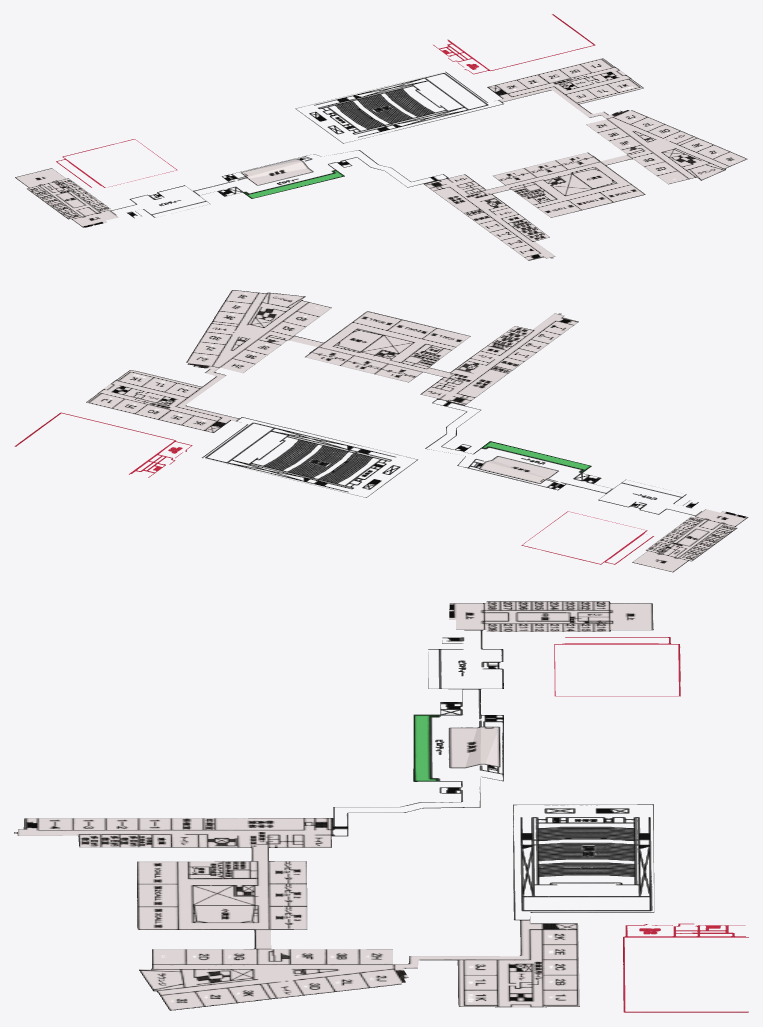
Rendered from story1.obj.
The picture shows the model from 3 angles, top to bottom: view 1: azimuth 30°, elevation 25°; view 2: azimuth 150°, elevation 25°; view 3: azimuth 270°, elevation 25°; orthographic projection. The views are drawn at different scales.
Parts seen in each view (by area): view 1: 平面.001; view 2: 平面.001; view 3: 平面.001.
Part boxes in pixels (x1,y1,x2,y2): 平面.001: [15, 14, 747, 260]; 平面.001: [14, 290, 748, 572]; 平面.001: [14, 601, 748, 1012].
Size of the model in its own units: 1.26 by 0.00664 by 0.9537.
1 material, 1 textured.
